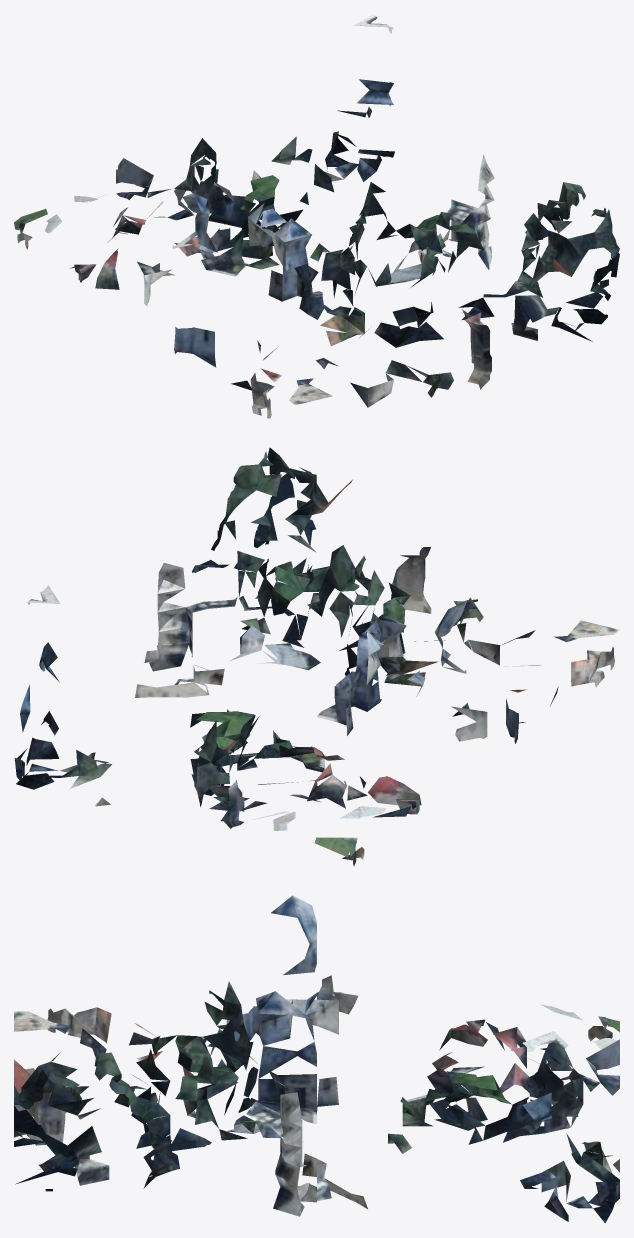
3 views of the same model, one above another, from view 1: azimuth 30°, elevation 25°; view 2: azimuth 150°, elevation 25°; view 3: azimuth 270°, elevation 25° (orthographic). The views are drawn at different scales.
Parts seen in each view (by area): view 1: 3043627270436140673_1; view 2: 3043627270436140673_1; view 3: 3043627270436140673_1.
Part boxes in pixels (x1,y1,x2,y2): 3043627270436140673_1: [14, 14, 619, 418]; 3043627270436140673_1: [14, 447, 619, 865]; 3043627270436140673_1: [14, 895, 619, 1223].
Size of the model in its own units: 54.63 by 26.81 by 76.51.
1 material, 1 textured.
